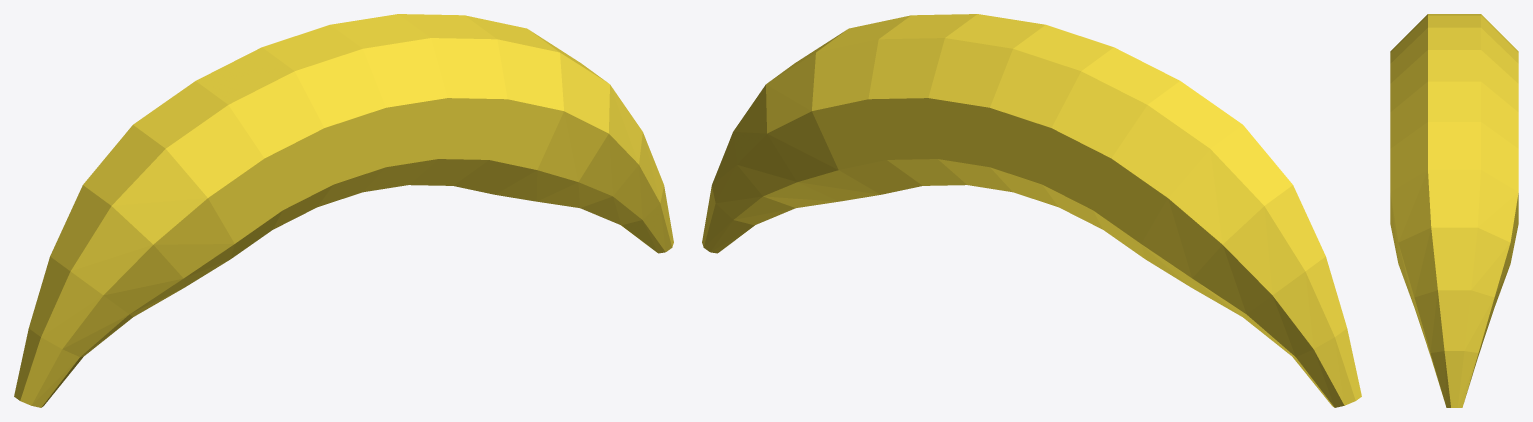
Rendered from banana.glb.
The picture shows the model from 3 angles, left to right: view 1: azimuth 30°, elevation 25°; view 2: azimuth 150°, elevation 25°; view 3: azimuth 270°, elevation 25°; orthographic projection. The views are drawn at different scales.
Size of the model in its own units: 0.1411 by 0.0603 by 0.0296.
